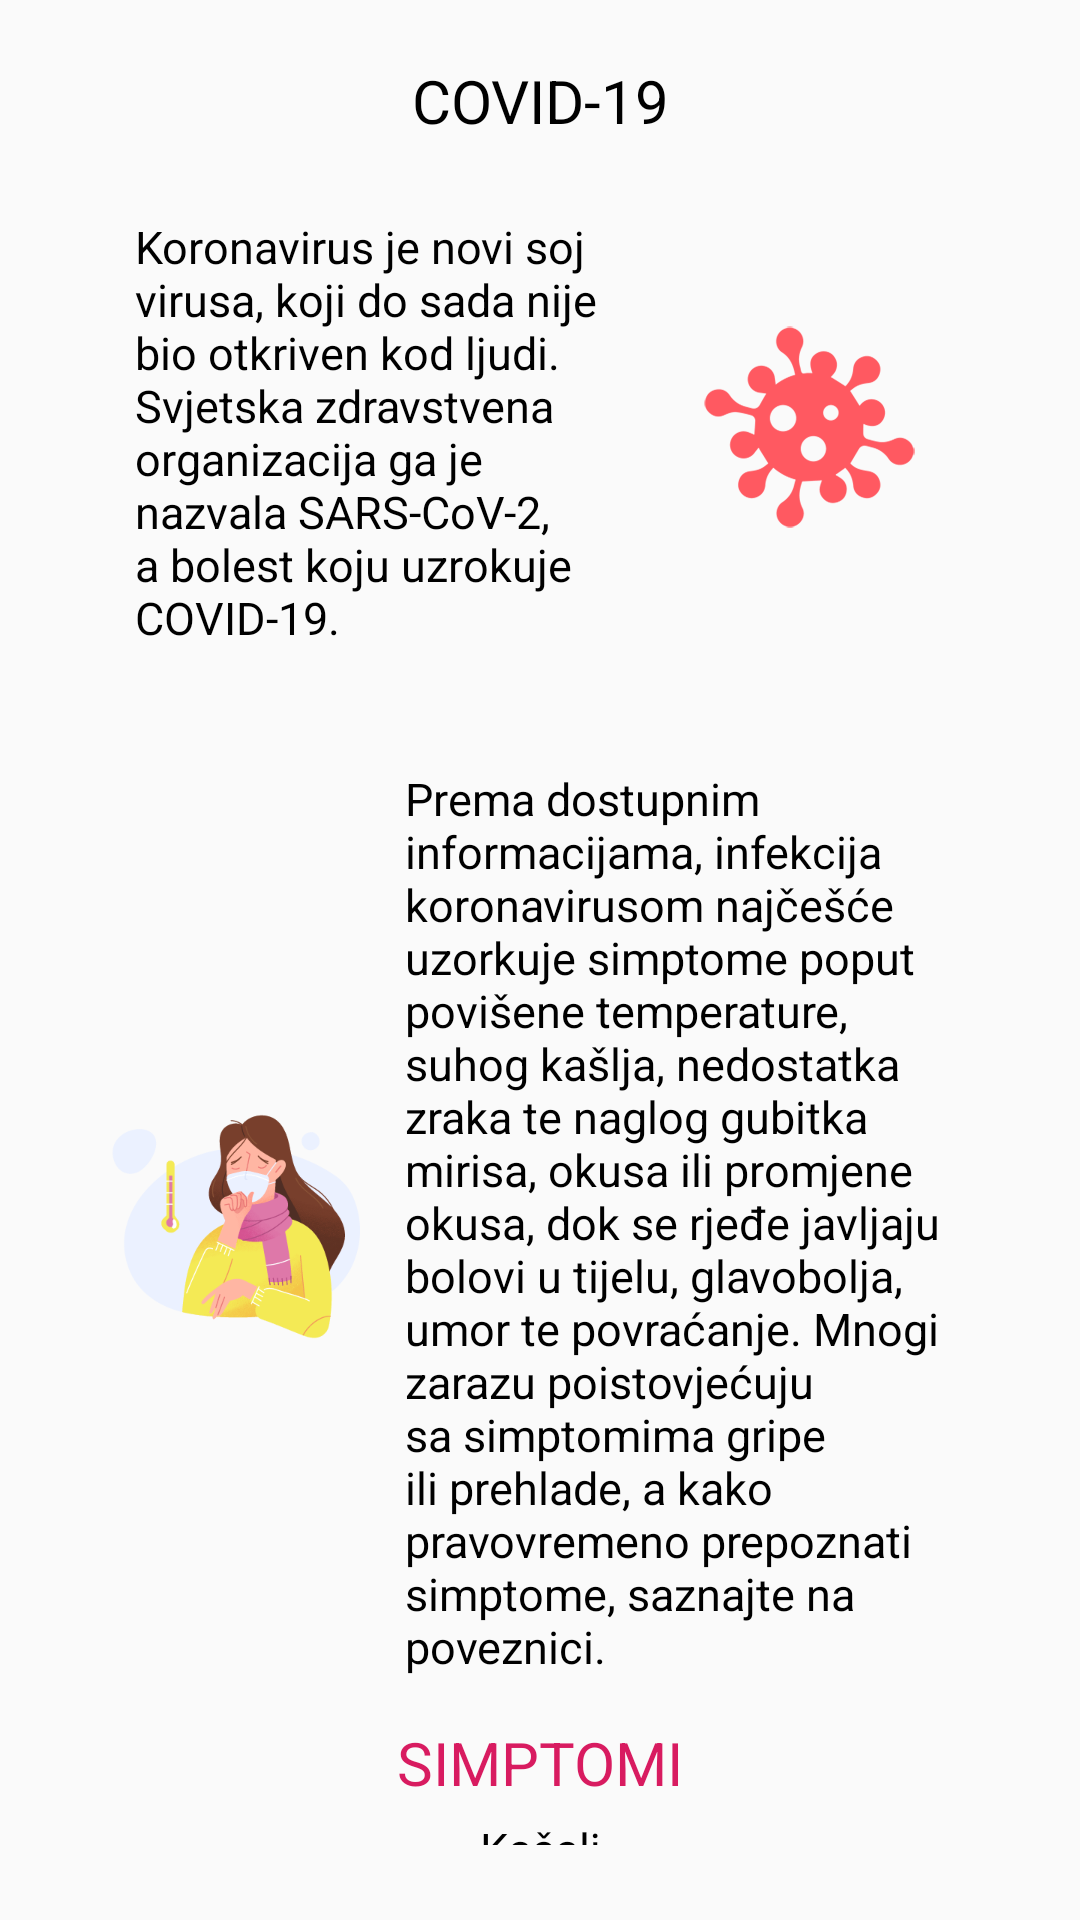

Icons on this 1080w x 1920h Android screen, each with its box as (x1, y1, x2, y2):
coughing mobile: (161, 1115, 345, 1338)
